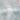plane: (1, 1, 20, 19)
